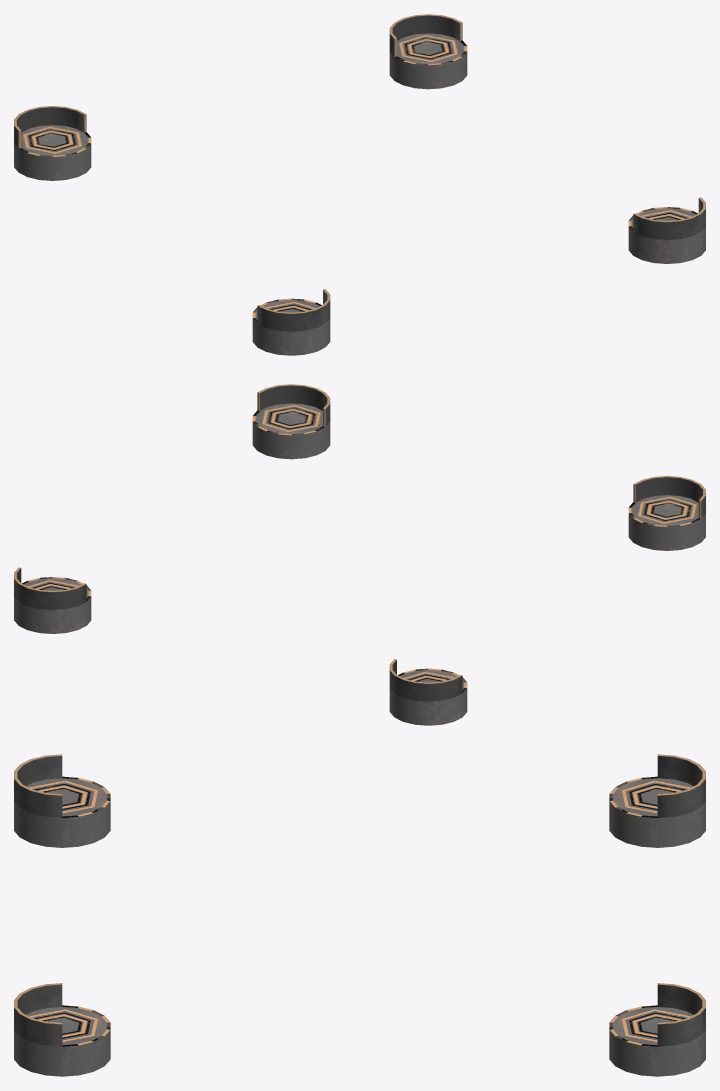
File: LaserGeneratorBase.fbx
3 renders of one model, top to bottom at view 1: azimuth 30°, elevation 25°; view 2: azimuth 150°, elevation 25°; view 3: azimuth 270°, elevation 25°, orthographic. The views are drawn at different scales.
Visible parts, largest first — view 1: Cylinder003; view 2: Cylinder003; view 3: Cylinder003.
Boxes of the visible parts, <box> form: Cylinder003: <box>14,14,705,355</box>; Cylinder003: <box>14,384,705,725</box>; Cylinder003: <box>14,754,705,1076</box>.
Size of the model in its own units: 42.48 by 3.83 by 45.99.
